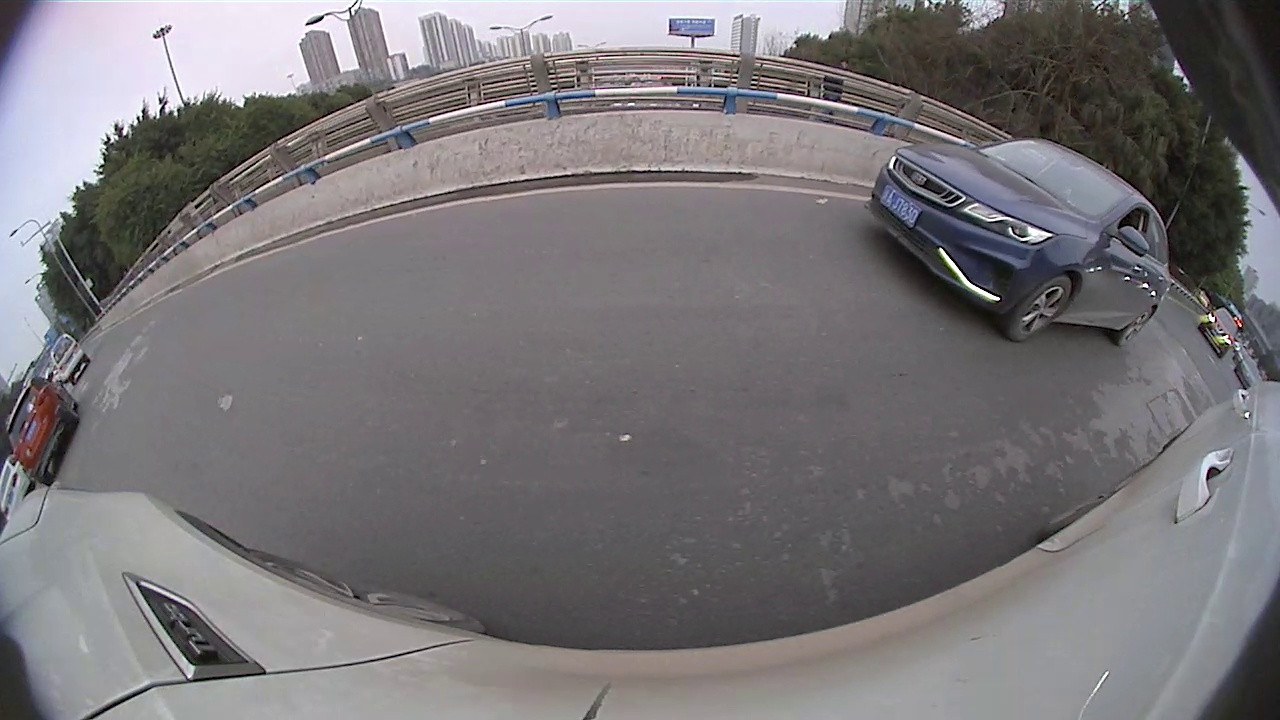bus: (773, 93, 1092, 240)
car: (979, 214, 1279, 472), (776, 135, 947, 237), (416, 147, 561, 232), (702, 156, 770, 190), (556, 153, 601, 190)
front: (1009, 275, 1116, 393), (778, 181, 796, 209)
rear: (831, 186, 862, 228), (509, 186, 527, 222)
truck: (593, 43, 715, 198)
